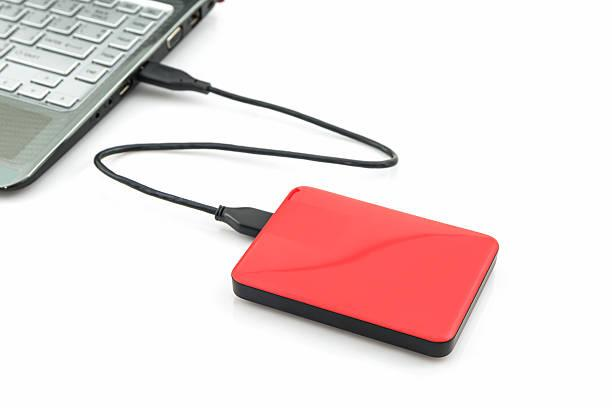HDD: (232, 186, 500, 359)
